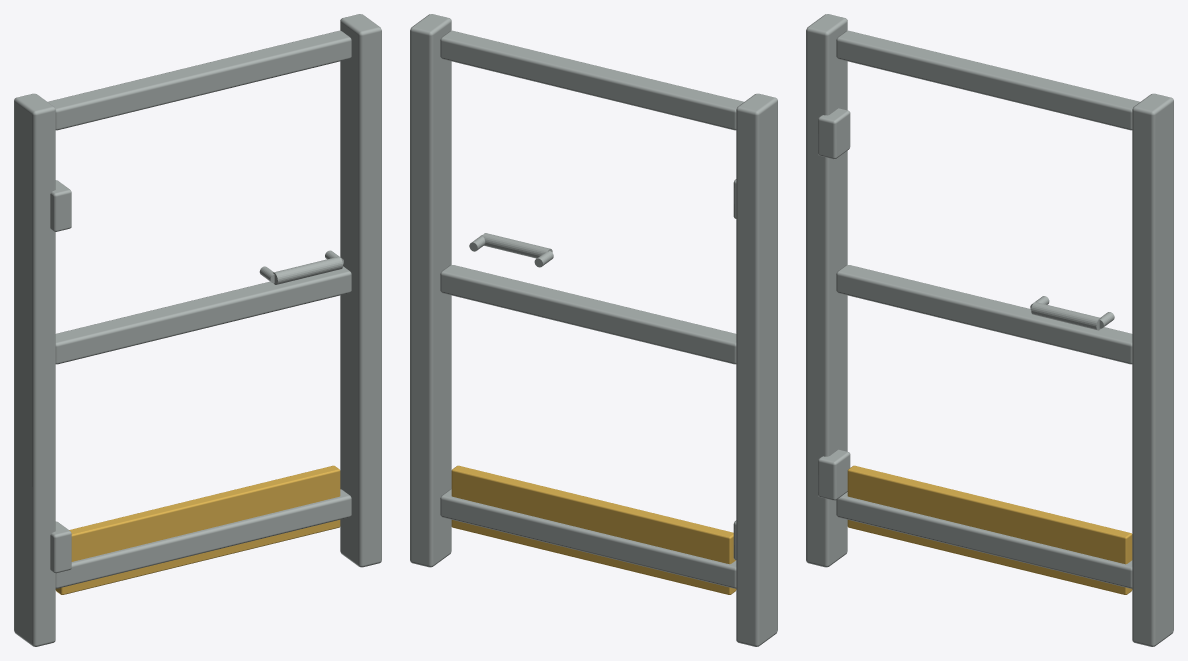
The model's file is automated-parking-and-vehicle-retrieval-automated-park-1f668b16__30372.glb.
3 views of the same model, side by side, from view 1: azimuth 30°, elevation 25°; view 2: azimuth 150°, elevation 25°; view 3: azimuth 330°, elevation 25° (orthographic).
Visible parts, largest first — view 1: automated-parking-and-vehicle-retrieval-maintenance-access-g (×2); view 2: automated-parking-and-vehicle-retrieval-maintenance-access-g (×2); view 3: automated-parking-and-vehicle-retrieval-maintenance-access-g (×2).
Part boxes in pixels (box(x1,y1,x2,y2)): automated-parking-and-vehicle-retrieval-maintenance-access-g (×2): box(14, 14, 381, 646); automated-parking-and-vehicle-retrieval-maintenance-access-g (×2): box(410, 14, 777, 646); automated-parking-and-vehicle-retrieval-maintenance-access-g (×2): box(806, 14, 1173, 646).
Bounding box in the file's own units: 0.75 × 1.1 × 0.112.
